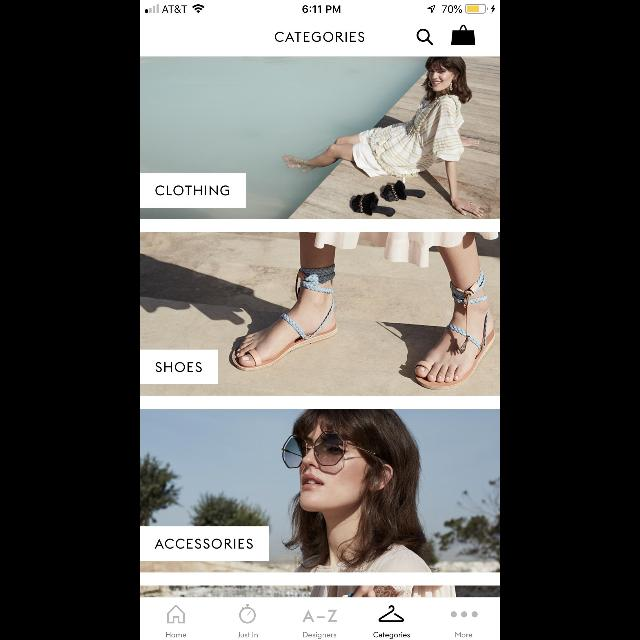icon: (450, 24, 476, 46), (378, 606, 404, 622), (302, 610, 336, 622), (167, 604, 185, 624), (416, 28, 434, 46), (240, 604, 256, 624), (450, 611, 478, 617)
image: (140, 232, 500, 396), (140, 57, 500, 219), (140, 410, 500, 572), (140, 586, 500, 596)
text: (154, 538, 253, 550), (275, 32, 365, 42), (155, 186, 229, 197), (155, 362, 201, 372), (374, 632, 411, 638), (304, 632, 336, 638), (166, 632, 186, 638), (238, 631, 258, 637), (456, 632, 472, 638)
uppertaskbar: (140, 1, 500, 15)
